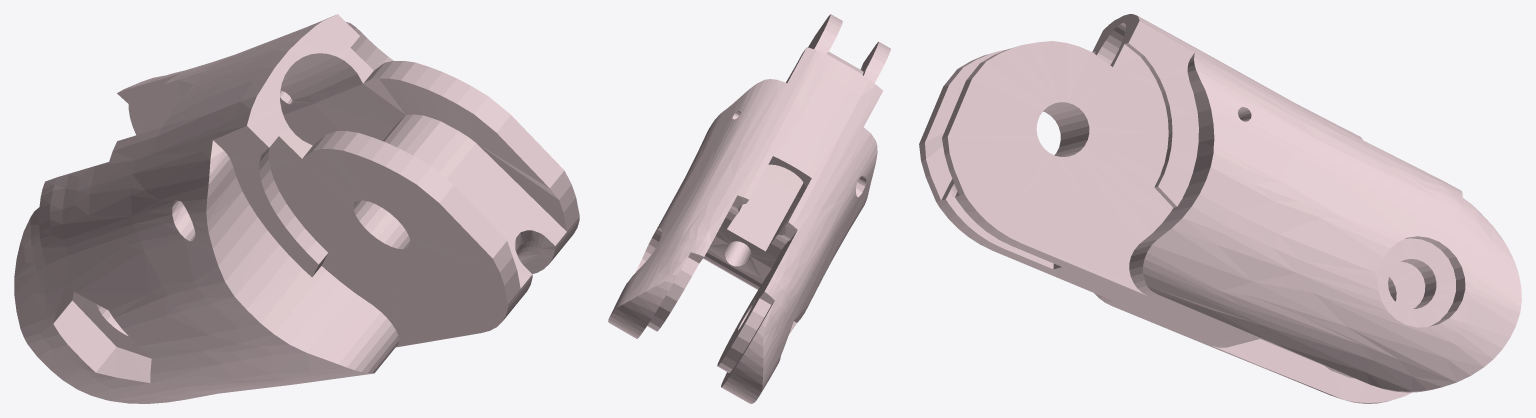
The model's file is i02_rightHand_indexMid_visual.obj.balanced.glb.
3 views of the same model, side by side, from view 1: azimuth 30°, elevation 25°; view 2: azimuth 150°, elevation 25°; view 3: azimuth 270°, elevation 25° (orthographic). The views are drawn at different scales.
Size of the model in its own units: 0.1771 by 0.2842 by 0.3928.
